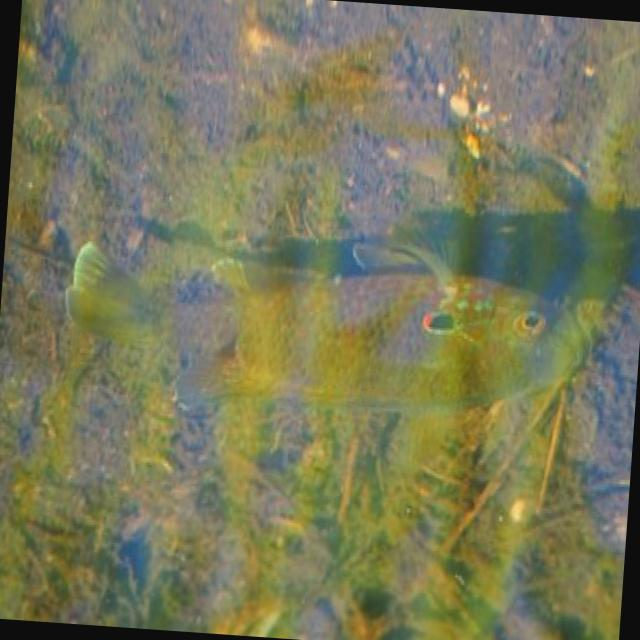Gunes Levregi: (58, 177, 609, 446)
